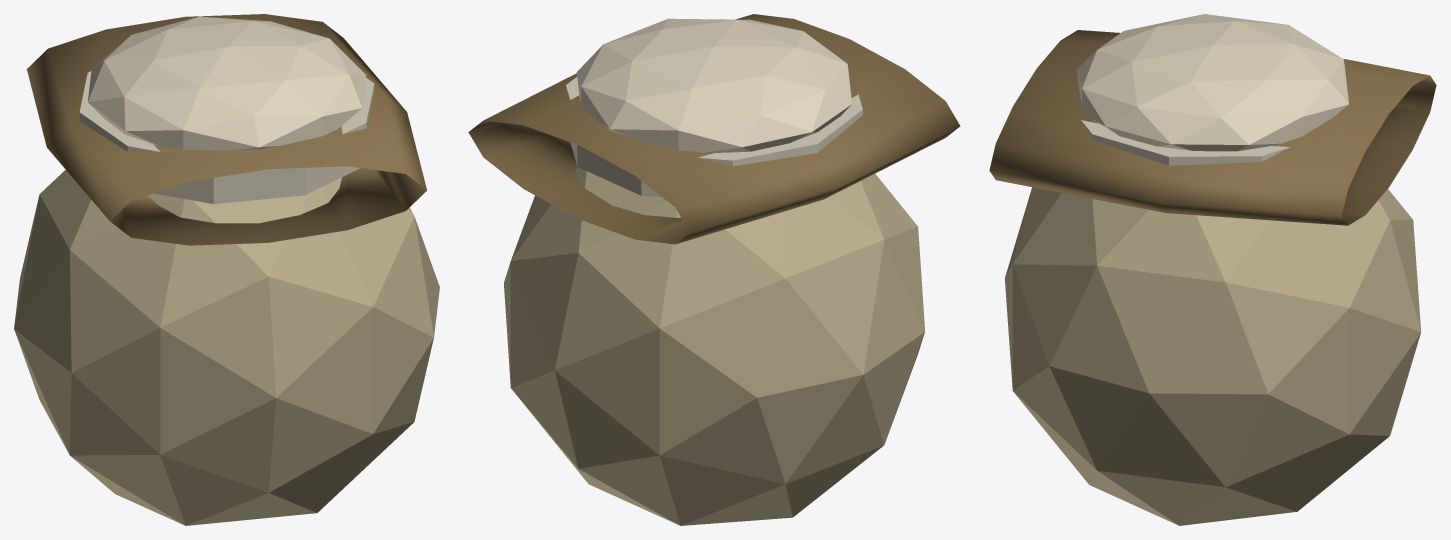
File: pile-flour-1.gltf
3 renders of one model, left to right at view 1: azimuth 30°, elevation 25°; view 2: azimuth 150°, elevation 25°; view 3: azimuth 270°, elevation 25°, orthographic.
Parts seen in each view (by area): view 1: pile-flour-1; view 2: pile-flour-1; view 3: pile-flour-1.
Part boxes in pixels (x1,y1,x2,y2): pile-flour-1: (14,14,439,525); pile-flour-1: (468,14,960,525); pile-flour-1: (989,14,1436,525).
Bounding box in the file's own units: 0.2515 × 0.3065 × 0.267.
